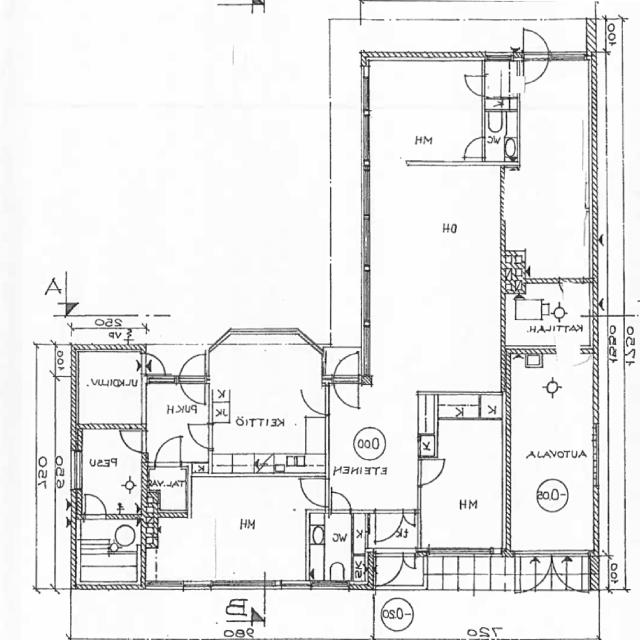door: (552, 550, 588, 593), (516, 550, 552, 593), (376, 548, 403, 584), (298, 386, 330, 414), (298, 479, 330, 506), (524, 52, 549, 86), (524, 27, 549, 61), (376, 509, 403, 540), (180, 350, 204, 384), (180, 375, 204, 409), (334, 374, 358, 408), (334, 350, 358, 384), (156, 436, 181, 467), (417, 461, 446, 485), (185, 424, 214, 448), (85, 492, 106, 520), (121, 431, 147, 452), (141, 353, 166, 374), (331, 489, 351, 514), (462, 137, 486, 157), (462, 76, 486, 95), (403, 547, 415, 568), (403, 509, 414, 525)
